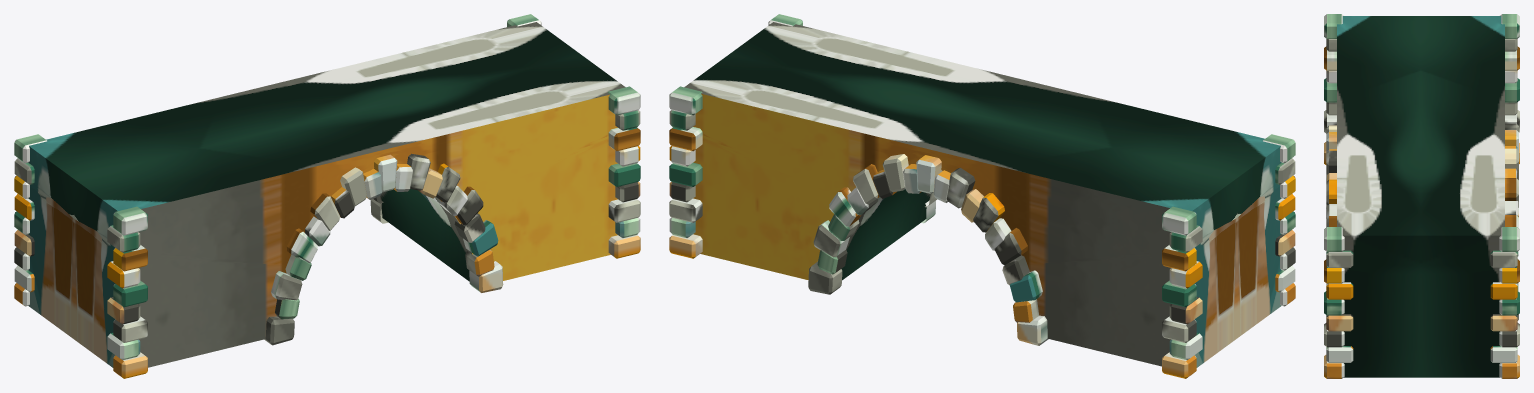
File: WindmillHouseRockBridge.fbx
3 views of the same model, side by side, from view 1: azimuth 30°, elevation 25°; view 2: azimuth 150°, elevation 25°; view 3: azimuth 270°, elevation 25° (orthographic). The views are drawn at different scales.
Parts seen in each view (by area): view 1: RockBridge, RockBridgeFrontRocks_low; view 2: RockBridge, RockBridgeFrontRocks_low; view 3: RockBridge, RockBridgeFrontRocks_low.
Boxes of the visible parts, <box> form: RockBridge: <box>28,22,625,367</box>; RockBridgeFrontRocks_low: <box>14,14,640,378</box>; RockBridge: <box>684,22,1281,367</box>; RockBridgeFrontRocks_low: <box>669,14,1295,378</box>; RockBridge: <box>1337,16,1504,377</box>; RockBridgeFrontRocks_low: <box>1324,14,1519,378</box>.
Bounding box in the file's own units: 23.3 × 7.06 × 8.58.
